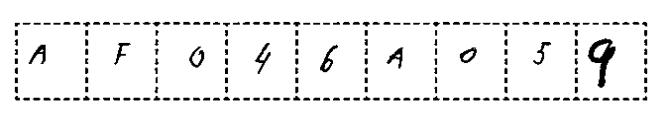0: (452, 41, 484, 71), (184, 42, 209, 75)
4: (252, 38, 274, 75)
5: (526, 38, 554, 68)
6: (313, 42, 345, 75)
9: (582, 33, 621, 90)
A: (26, 38, 54, 69), (381, 43, 409, 74)
F: (110, 38, 135, 67)
